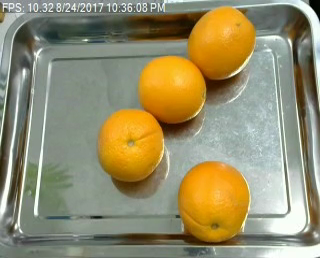Orange: (178, 161, 250, 243), (186, 6, 255, 80), (97, 108, 164, 182), (138, 55, 206, 123)
